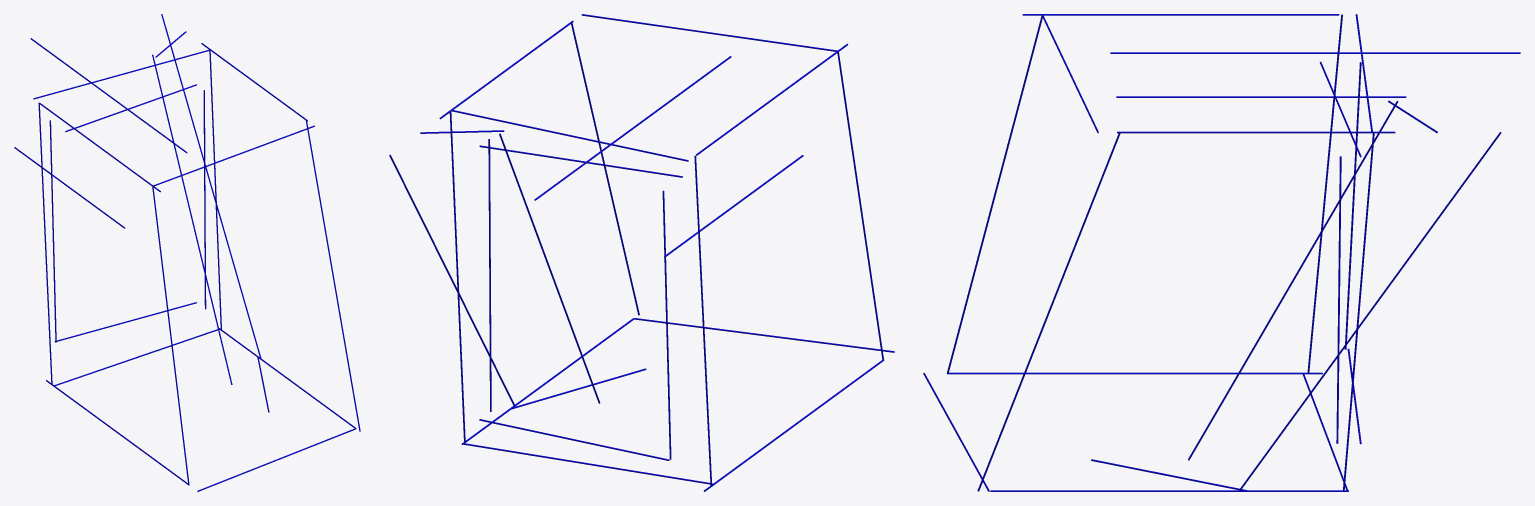
Rendered from corrected_3d_strokes.glb.
3 renders of one model, left to right at view 1: azimuth 30°, elevation 25°; view 2: azimuth 150°, elevation 25°; view 3: azimuth 270°, elevation 25°, orthographic. The views are drawn at different scales.
Parts seen in each view (by area): view 1: world; view 2: world; view 3: world.
Part boxes in pixels (box(x1,y1,x2,y2)): world: box(14, 14, 360, 491); world: box(389, 14, 894, 491); world: box(923, 14, 1520, 491).
Size of the model in its own units: 6 by 8.52 by 12.8.
